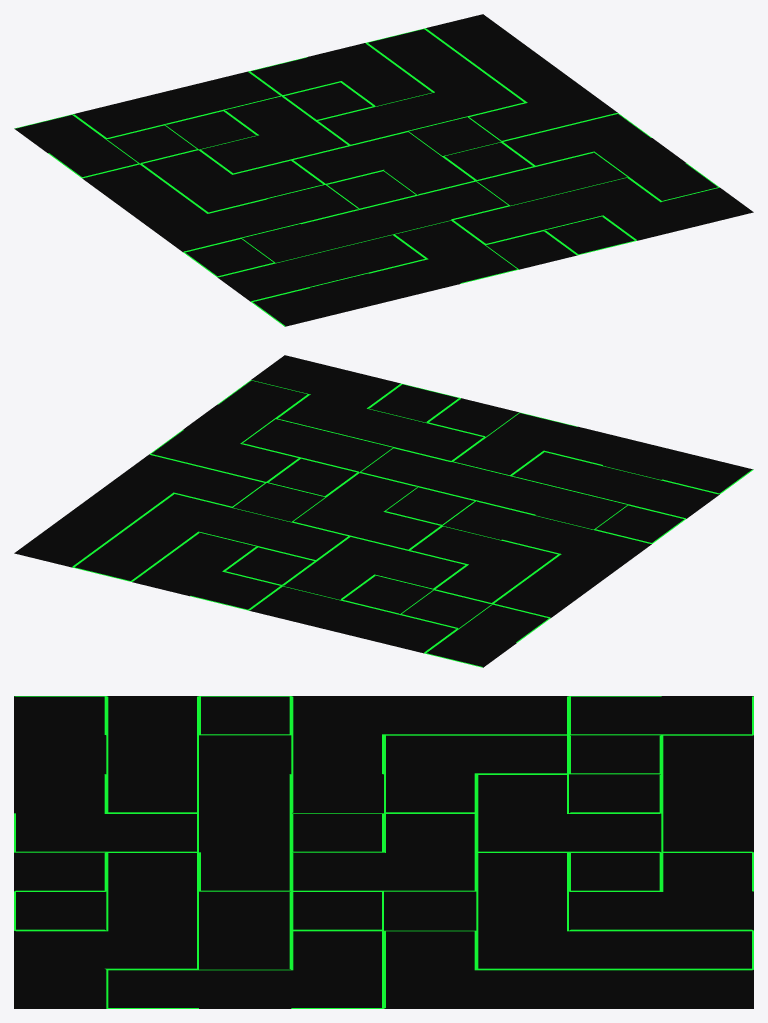
File: 1d785dfb-8e69-4534-b3c2-5a2867a31fa7.glb
The picture shows the model from 3 angles, top to bottom: view 1: azimuth 30°, elevation 25°; view 2: azimuth 150°, elevation 25°; view 3: azimuth 270°, elevation 25°; orthographic projection. The views are drawn at different scales.
Parts seen in each view (by area): view 1: CyberPunkGround.005; view 2: CyberPunkGround.005; view 3: CyberPunkGround.005.
Boxes of the visible parts, box(x1,y1,x2,y2) form: CyberPunkGround.005: box(14, 14, 753, 326); CyberPunkGround.005: box(14, 355, 753, 667); CyberPunkGround.005: box(14, 696, 753, 1008).
Size of what is drawn, in the model's own units: 16 by 0.005 by 16.
2 materials, 2 textured.
